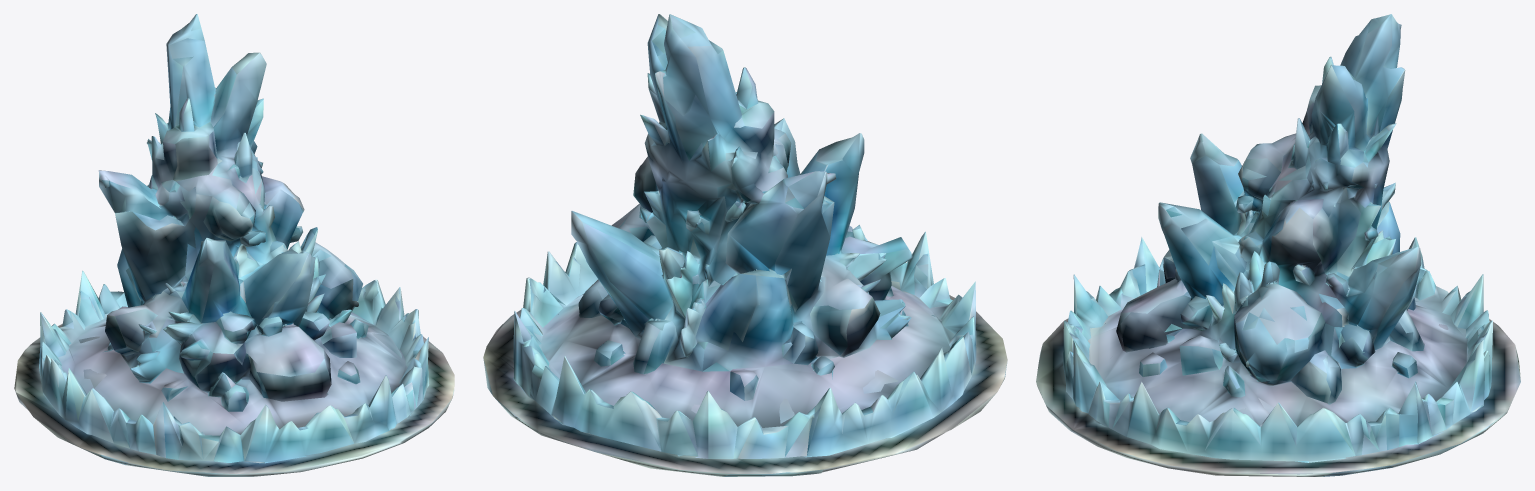
The model's file is avalanche-diet128.glb.
3 views of the same model, side by side, from view 1: azimuth 30°, elevation 25°; view 2: azimuth 150°, elevation 25°; view 3: azimuth 270°, elevation 25° (orthographic). The views are drawn at different scales.
Parts seen in each view (by area): view 1: Mesh_0; view 2: Mesh_0; view 3: Mesh_0.
Boxes of the visible parts, box(x1,y1,x2,y2) form: Mesh_0: box(14, 14, 454, 476); Mesh_0: box(483, 14, 1007, 476); Mesh_0: box(1036, 14, 1520, 476).
Size of the model in its own units: 1.89 by 1.6 by 1.89.
Materials: 1 (1 with a texture image).
